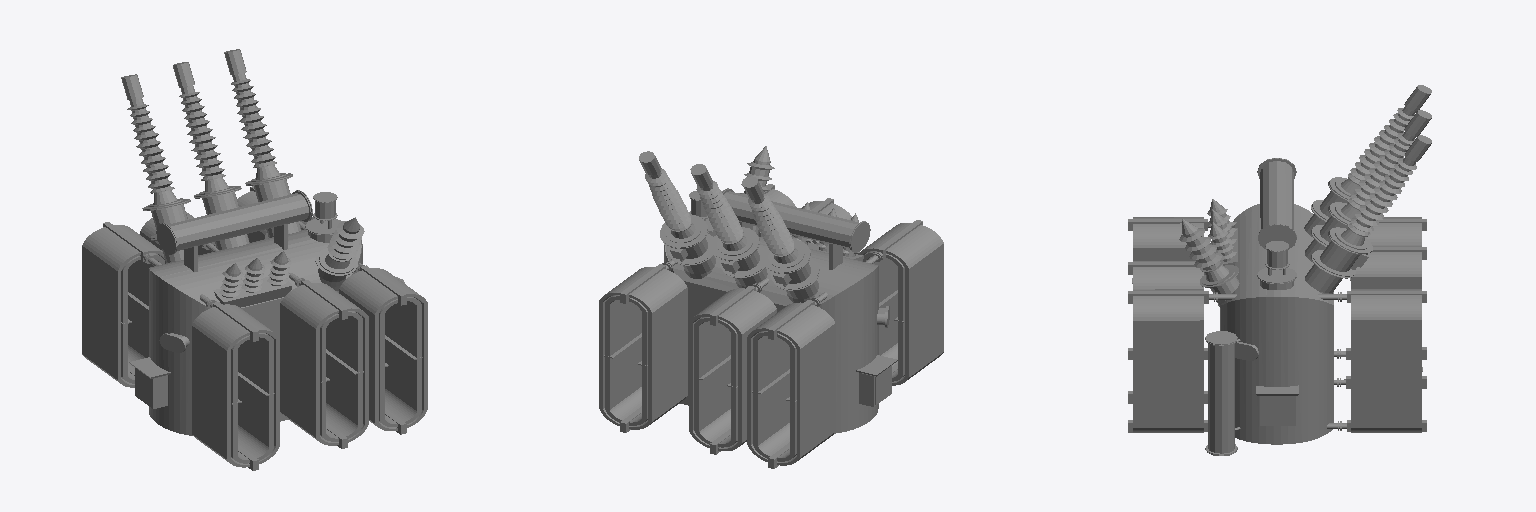
File: Transformer.obj
3 renders of one model, left to right at view 1: azimuth 30°, elevation 25°; view 2: azimuth 150°, elevation 25°; view 3: azimuth 270°, elevation 25°, orthographic.
Parts seen in each view (by area): view 1: Transformer, Cover, Bushing2, Bushing1, Bushing3; view 2: Transformer, Cover, Bushing1, Bushing3, Bushing2; view 3: Transformer, Bushing3, Bushing2, Bushing1.
Part boxes in pixels (x1,y1,x2,y2): Transformer: (82, 186, 427, 470); Cover: (129, 269, 208, 435); Bushing2: (173, 62, 249, 249); Bushing1: (121, 74, 198, 262); Bushing3: (224, 49, 300, 237); Transformer: (599, 146, 943, 468); Cover: (818, 266, 897, 433); Bushing1: (742, 176, 819, 302); Bushing3: (639, 151, 715, 278); Bushing2: (690, 164, 767, 288); Transformer: (1128, 158, 1426, 455); Bushing3: (1305, 135, 1431, 293); Bushing2: (1305, 110, 1431, 261); Bushing1: (1304, 85, 1431, 236).
Size of the model in its own units: 491 by 568 by 549.